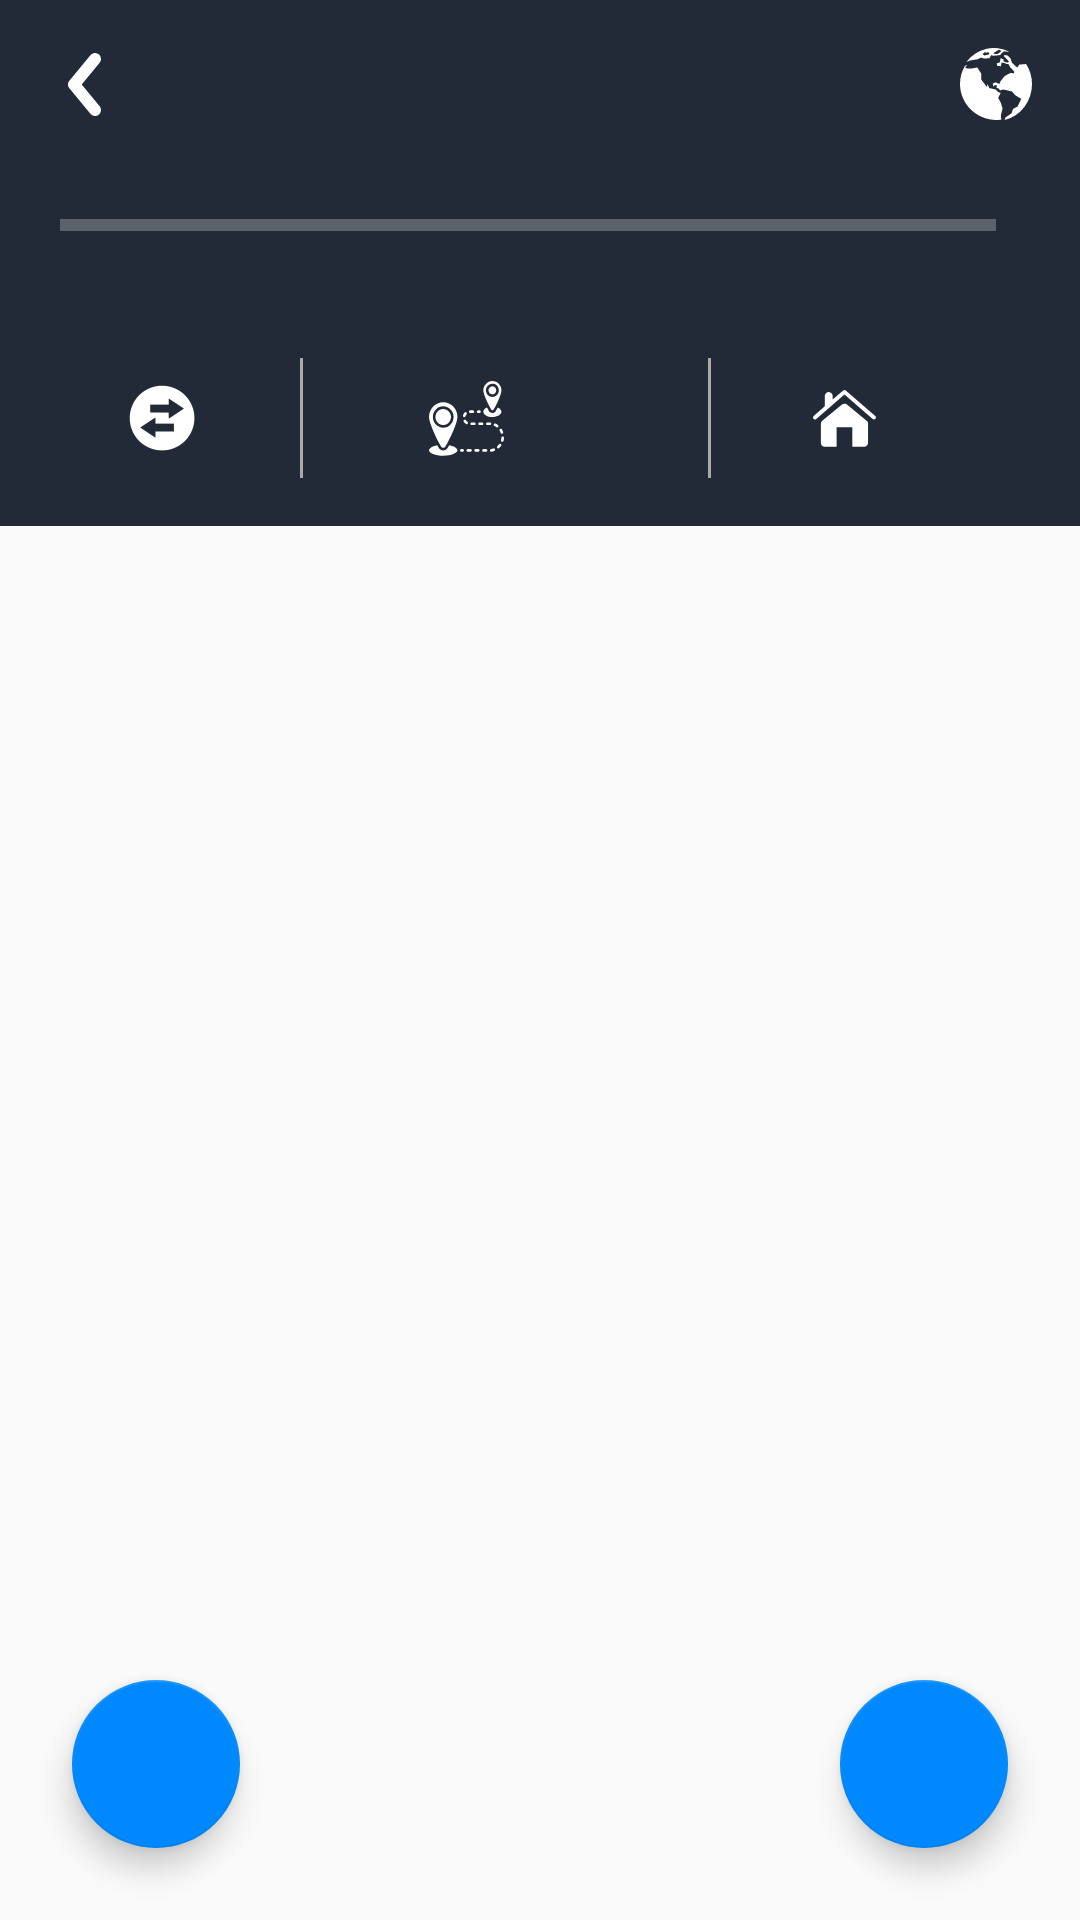

Named icons in this screenshot (1080*1920) and their centers, [x,y]:
casas: [844,418]
ruas: [466,418]
voltar: [84,84]
world: [996,84]
